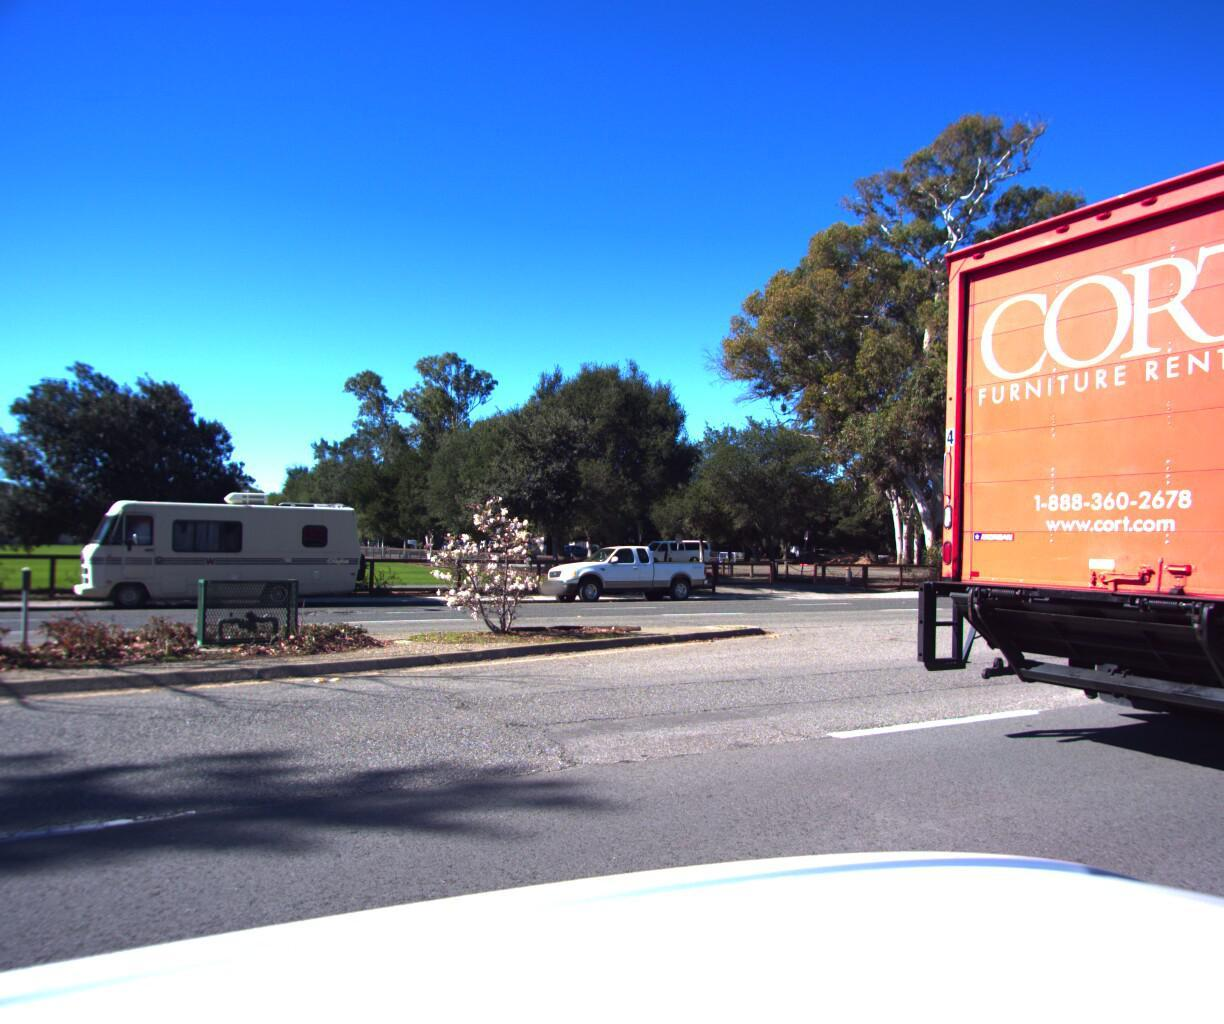car: (532, 535, 713, 604), (0, 545, 13, 616)
other_vehicle: (73, 473, 381, 606)
truck: (863, 55, 1224, 845)
